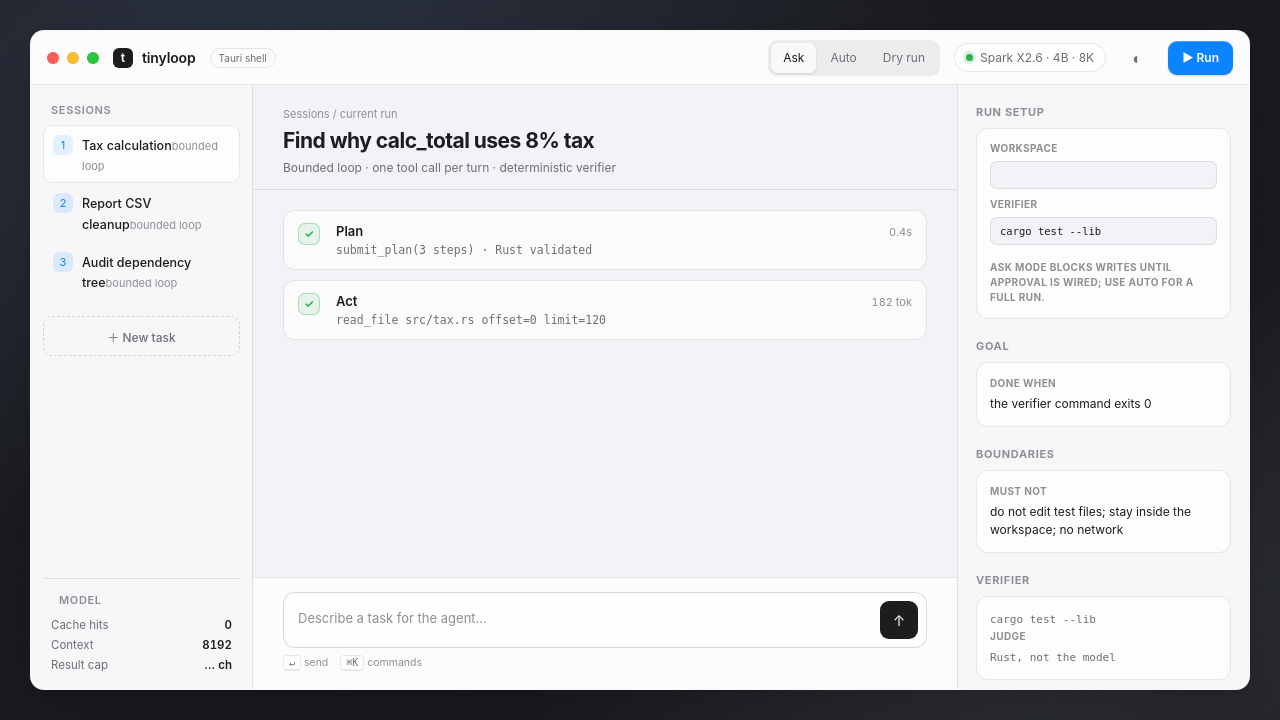
tinyloop desktop under Tauri › denies a write without touching the file and reports the denial
This screenshot has width=1280, height=720.
Click the button with test id "run-button" at coordinates (1201, 58), box top-left (1168, 40), bottom-right (1233, 74)
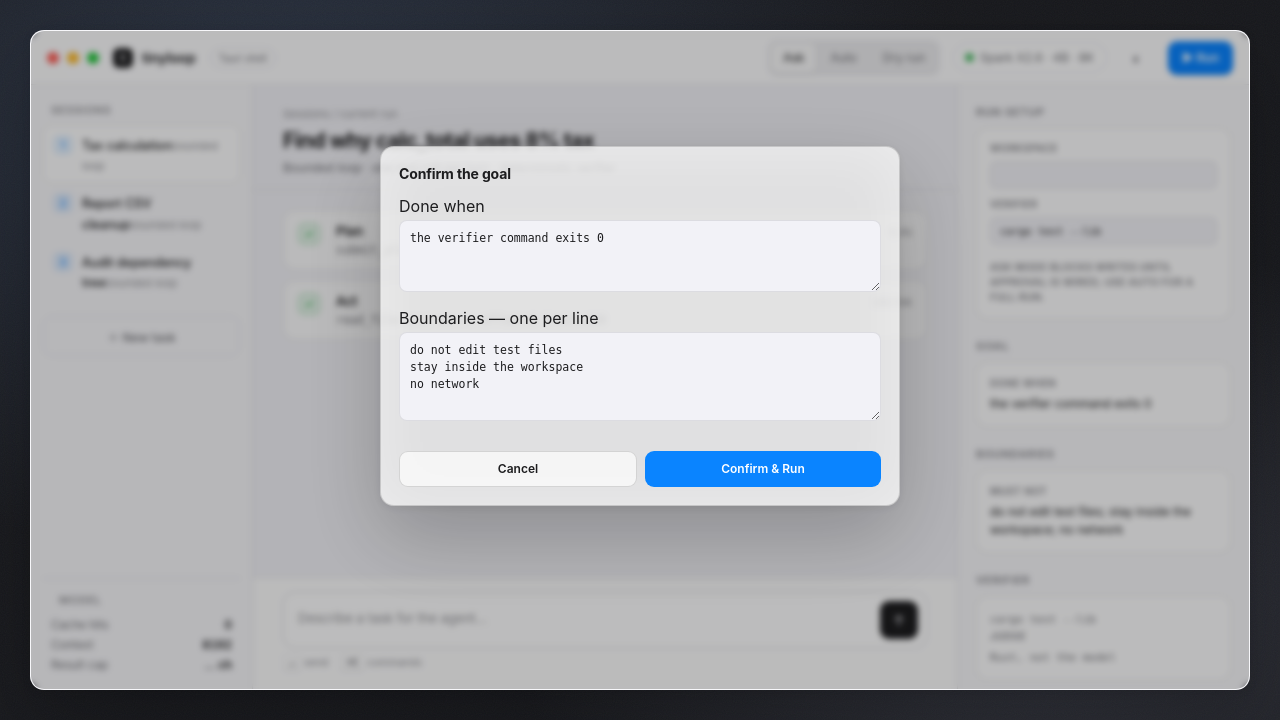
Click the button with test id "clarify-confirm" at coordinates (763, 469), box top-left (645, 451), bottom-right (881, 487)
(page scrolled)
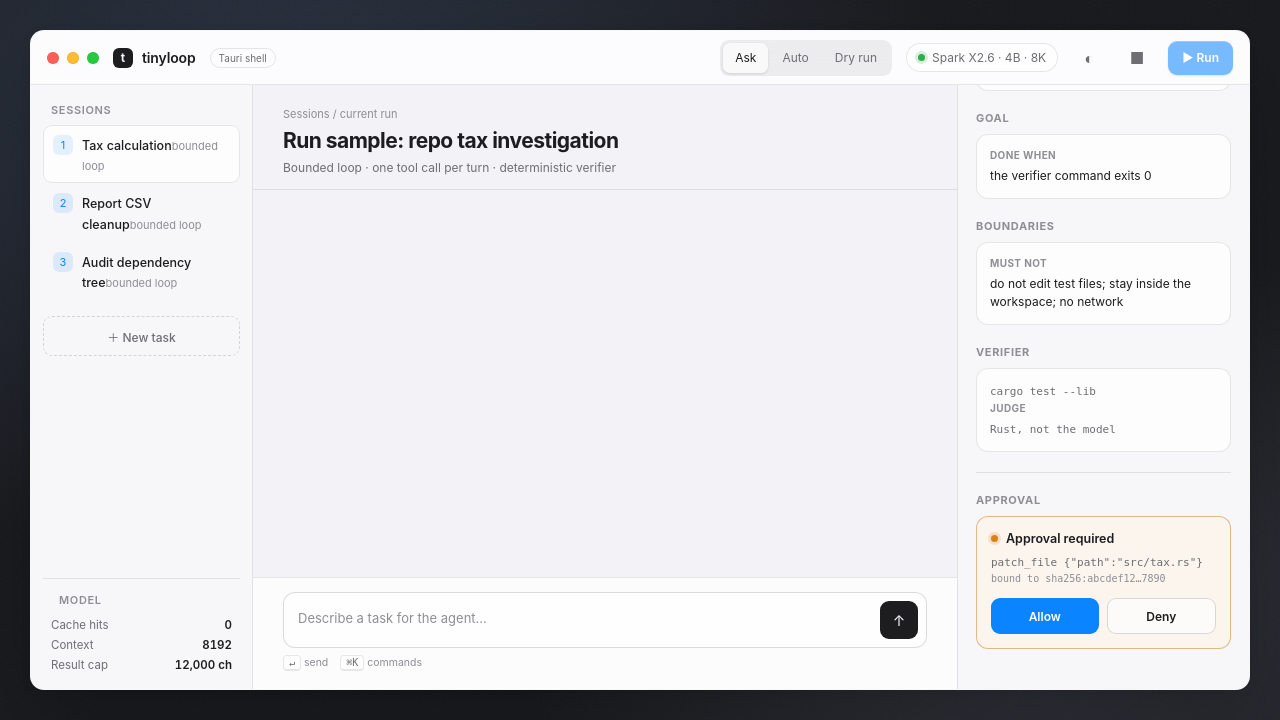
Click the button with test id "deny-button" at coordinates (1161, 616), box top-left (1106, 598), bottom-right (1216, 634)
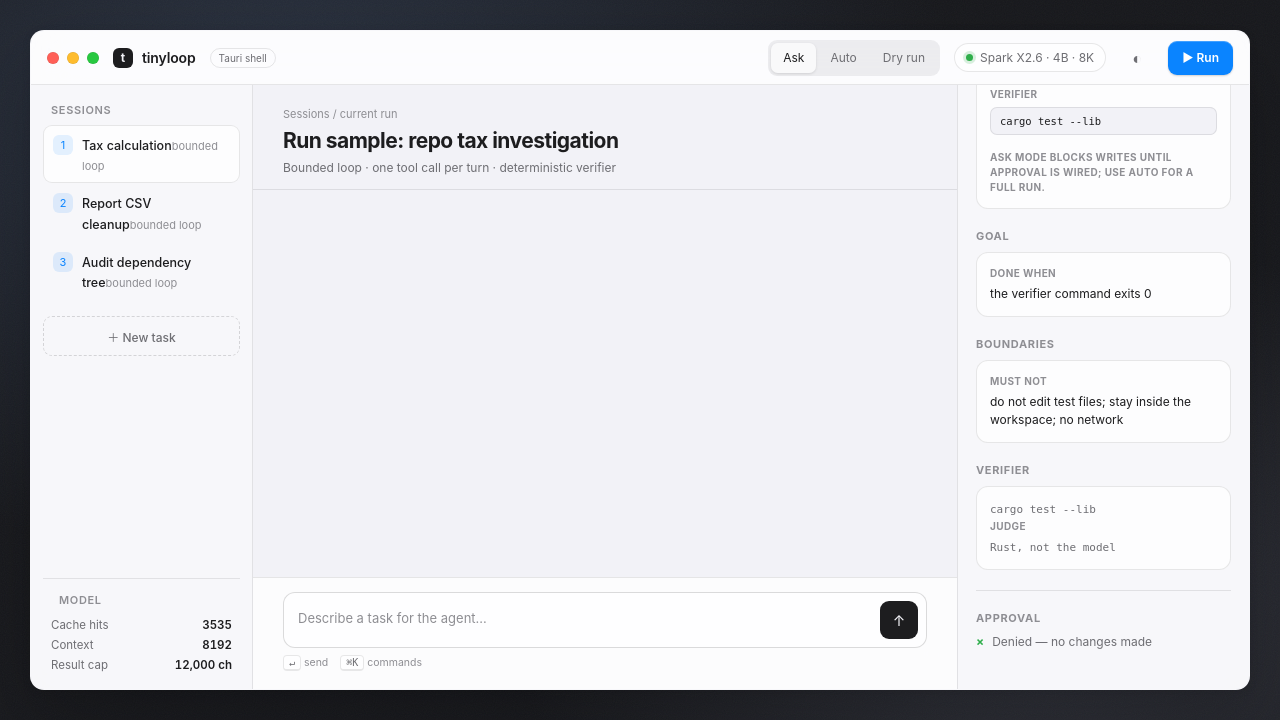
Expected: the text "Denied — no changes made" is shown, top-left (992, 634), bottom-right (1152, 649)
